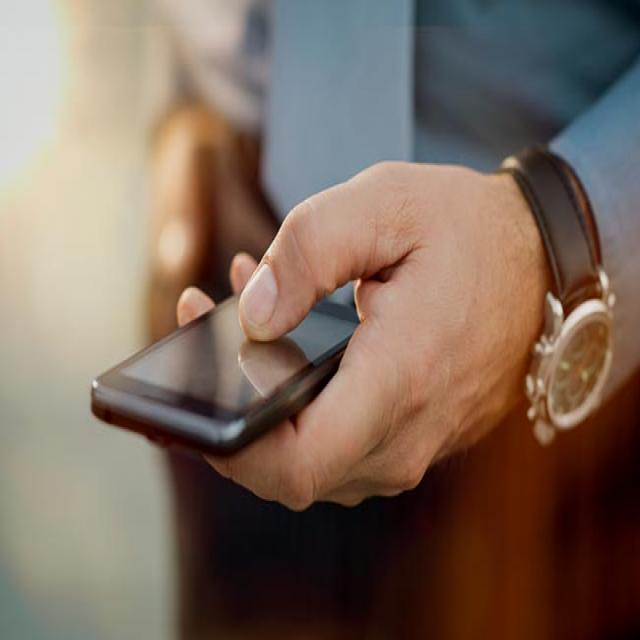non-cheating: (86, 151, 500, 494)
